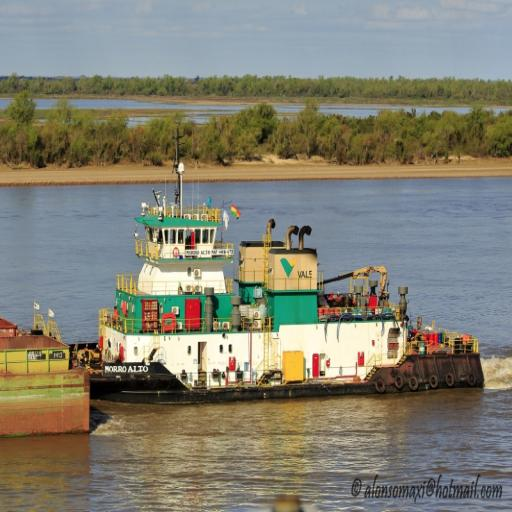tugboat: (31, 191, 489, 402)
